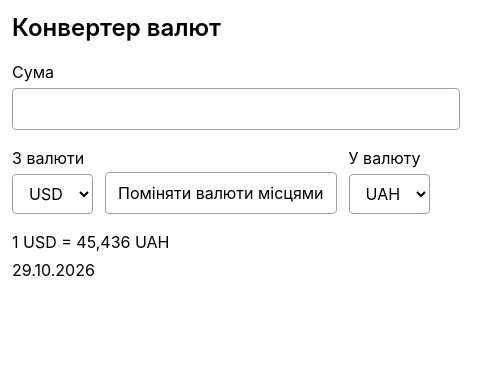
Converter result › shows zero as 0,00 with the rate, date and label
Check: the text "1 USD = 45,436 UAH" is shown, box x1=12 y1=232 x2=170 y2=252
Type "0" into the field labelled "Сума" at (236, 109), box x1=12 y1=88 x2=460 y2=130
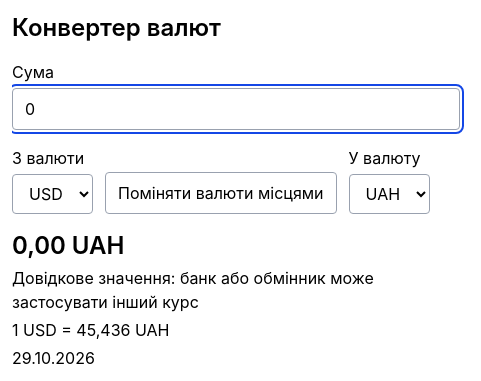
Check: the text "1 USD = 45,436 UAH" is shown, box x1=12 y1=320 x2=170 y2=340
Check: the text "0,00 UAH" is shown, box x1=12 y1=231 x2=124 y2=260
Check: the text "Довідкове значення: банк або обмінник може застосувати інший курс" is shown, box x1=12 y1=268 x2=374 y2=312
